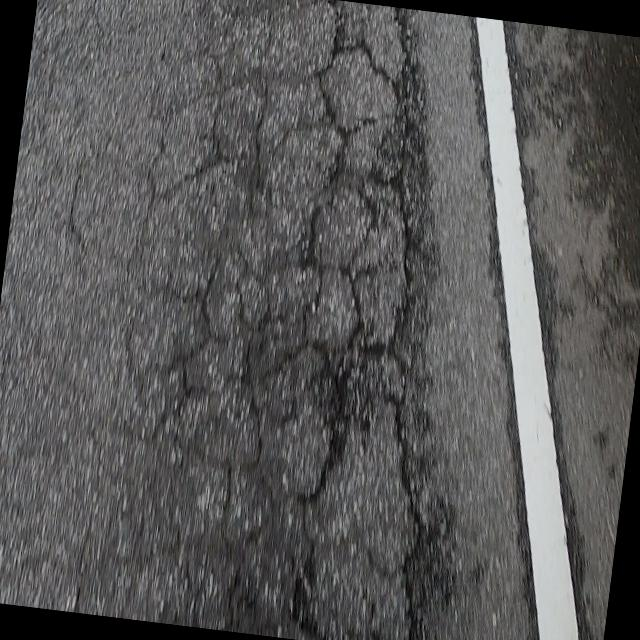Retak-Buaya: (125, 0, 439, 640)
